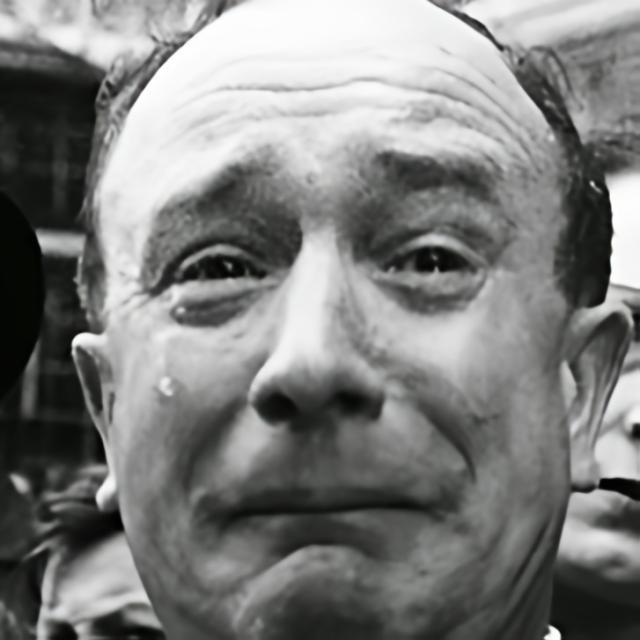sad: (108, 0, 560, 640)
